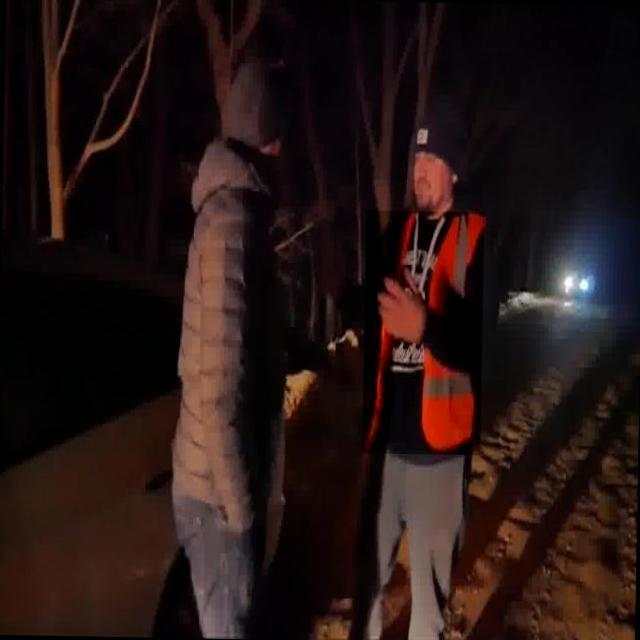Person: (133, 34, 328, 640), (343, 108, 544, 640)
Safety Vest: (363, 210, 485, 455)
bare-arms: (373, 269, 437, 346)
no-helmet: (204, 53, 293, 156), (408, 112, 474, 174)
no-vest: (180, 145, 275, 523)
